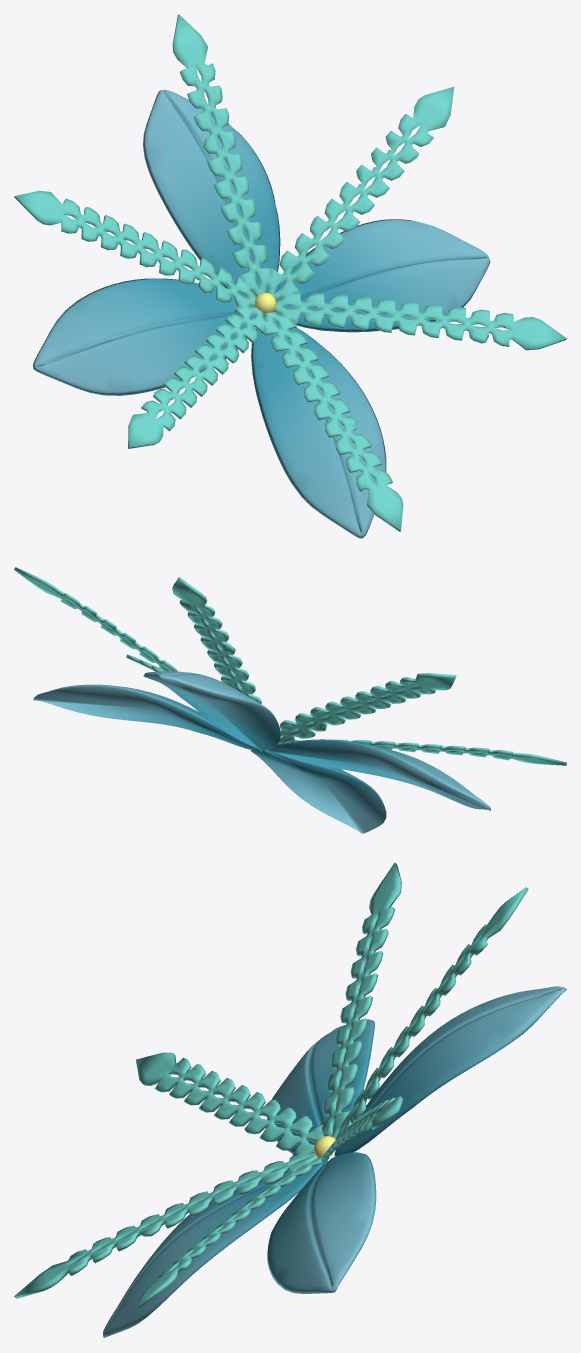
The model's file is FlorDeGelo.fbx.
3 views of the same model, one above another, from view 1: azimuth 30°, elevation 25°; view 2: azimuth 150°, elevation 25°; view 3: azimuth 270°, elevation 25° (orthographic). The views are drawn at different scales.
Parts seen in each view (by area): view 1: Flor de Gelo; view 2: Flor de Gelo; view 3: Flor de Gelo.
Boxes of the visible parts, <box> form: Flor de Gelo: <box>14,14,566,538</box>; Flor de Gelo: <box>14,567,566,833</box>; Flor de Gelo: <box>14,862,566,1337</box>.
Bounding box in the file's own units: 164 × 135 × 149.
